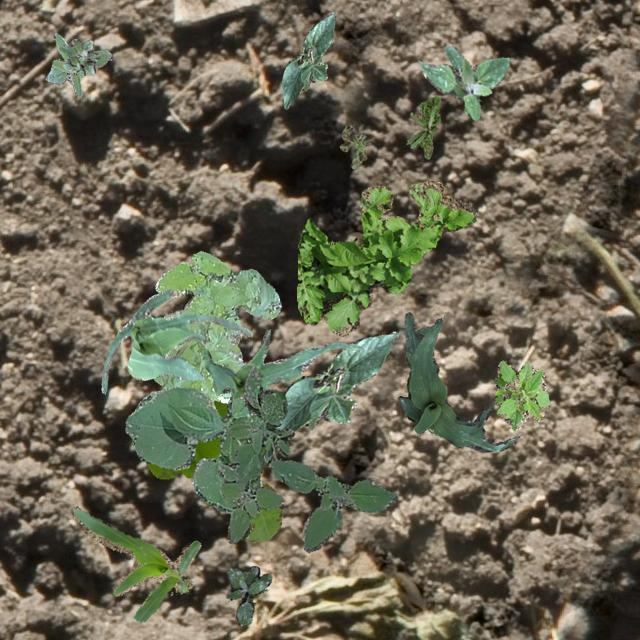crop: (125, 383, 268, 512), (396, 310, 518, 450), (100, 288, 252, 392), (68, 504, 200, 622), (202, 328, 360, 416), (274, 330, 399, 430), (280, 12, 336, 108)
weed: (216, 364, 396, 552), (296, 180, 474, 336), (146, 398, 282, 542), (153, 250, 280, 402), (418, 44, 508, 120), (44, 32, 110, 96), (493, 360, 548, 430), (224, 564, 270, 624), (406, 96, 440, 158), (58, 38, 100, 76), (338, 124, 371, 168)
